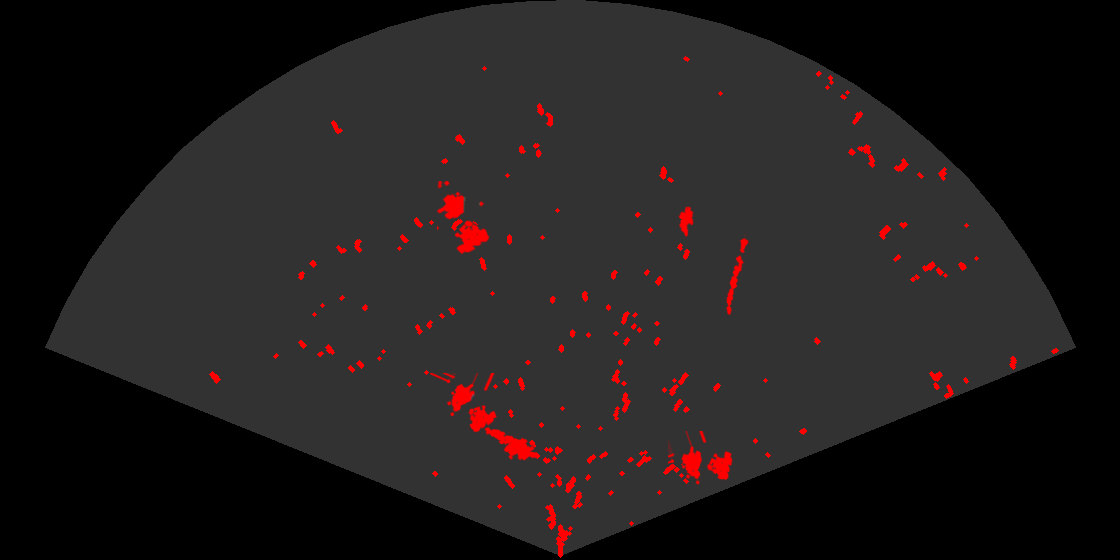AUV: (676, 205, 695, 239)
cage: (430, 373, 499, 434), (437, 181, 491, 256), (668, 431, 734, 486)
chain: (725, 233, 750, 317)
frogman: (482, 426, 537, 462)
